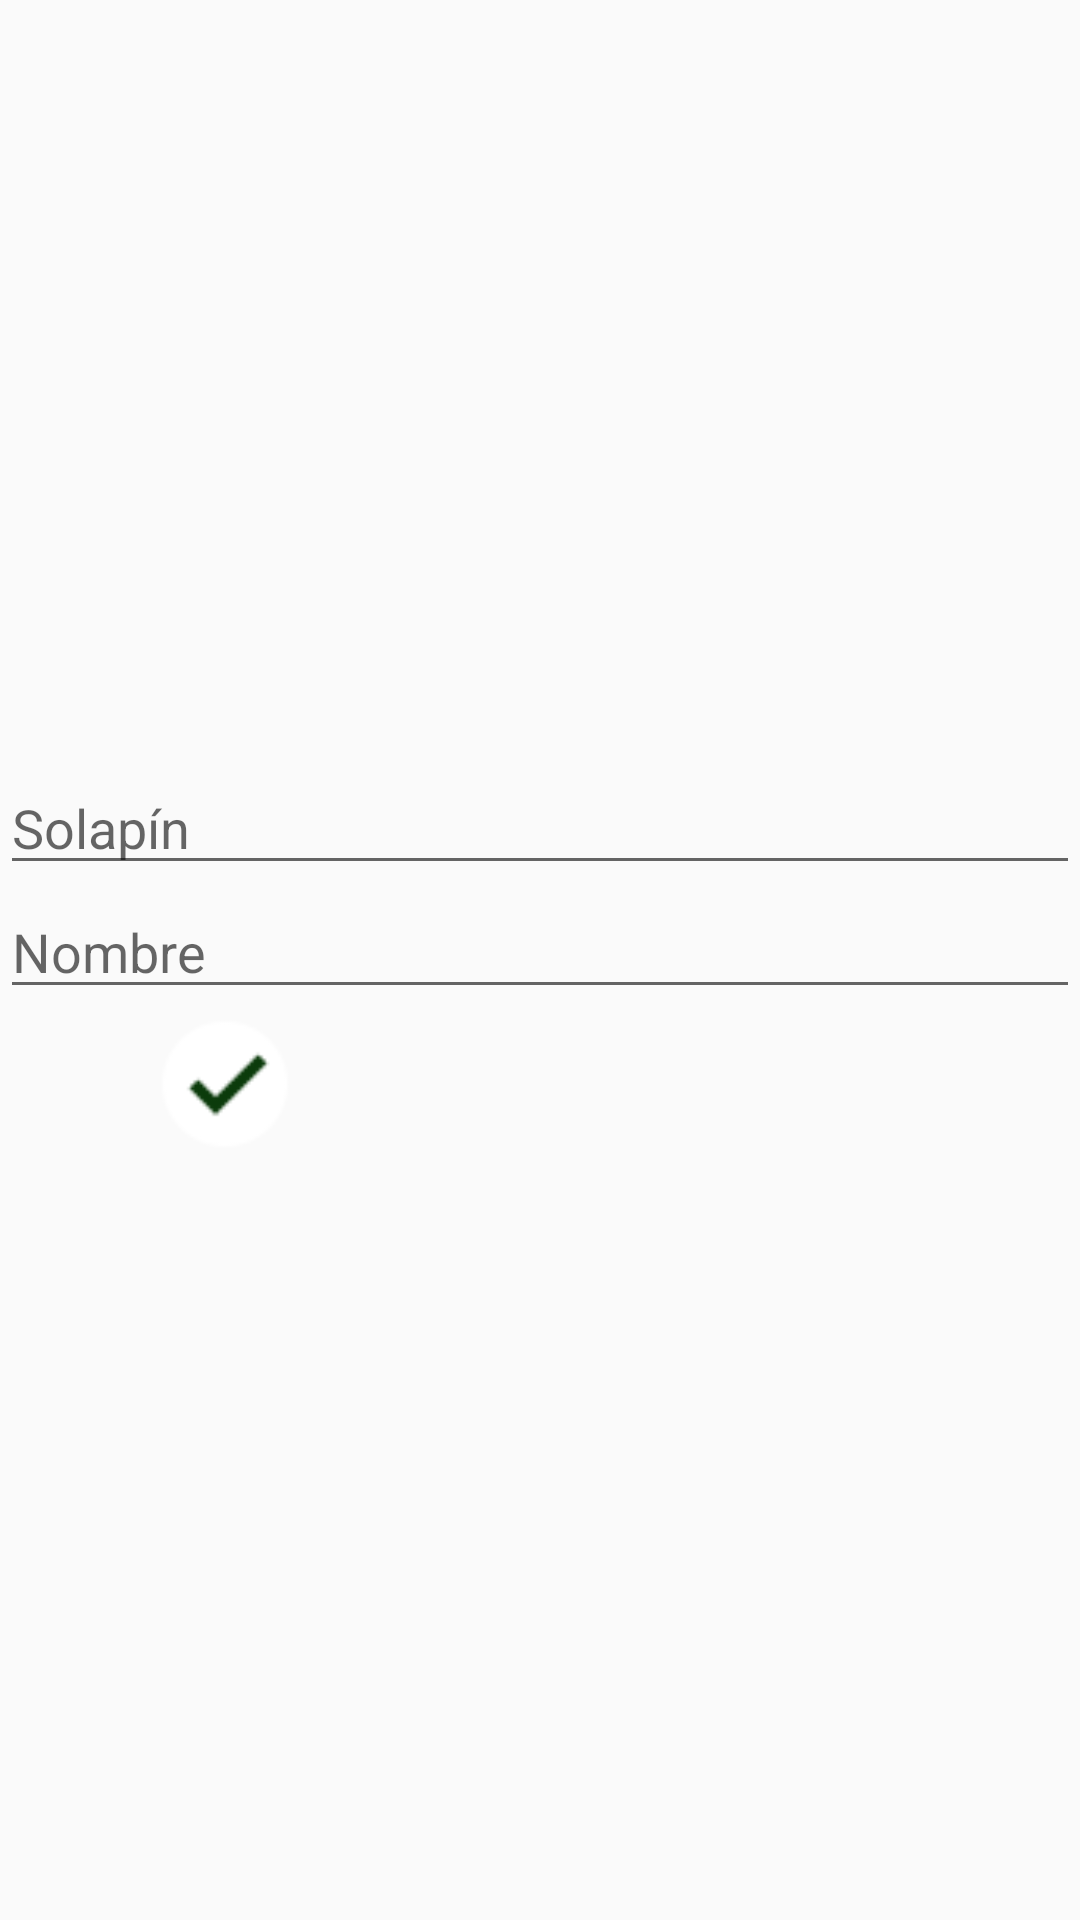

Screen size 1080x1920. Icon name, then its box in pixels as [left=x1, top=y1, right=x2, bottom=y2]:
bot check: [left=188, top=1054, right=268, bottom=1116]
